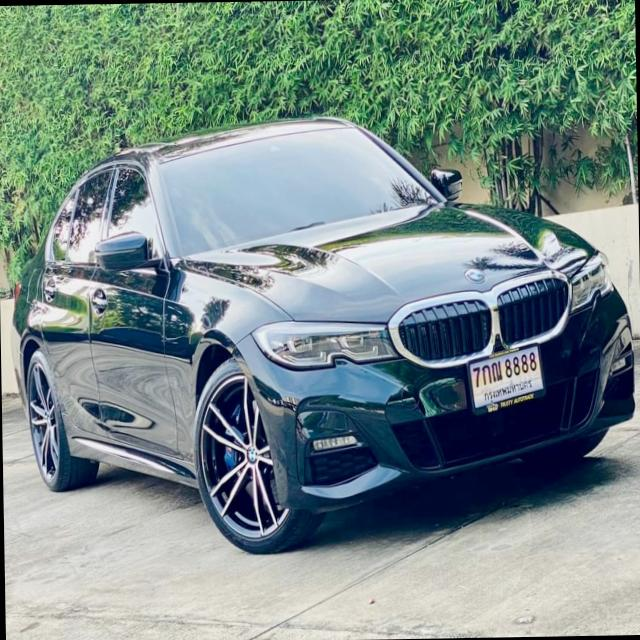license_plate: (467, 342, 546, 417)
